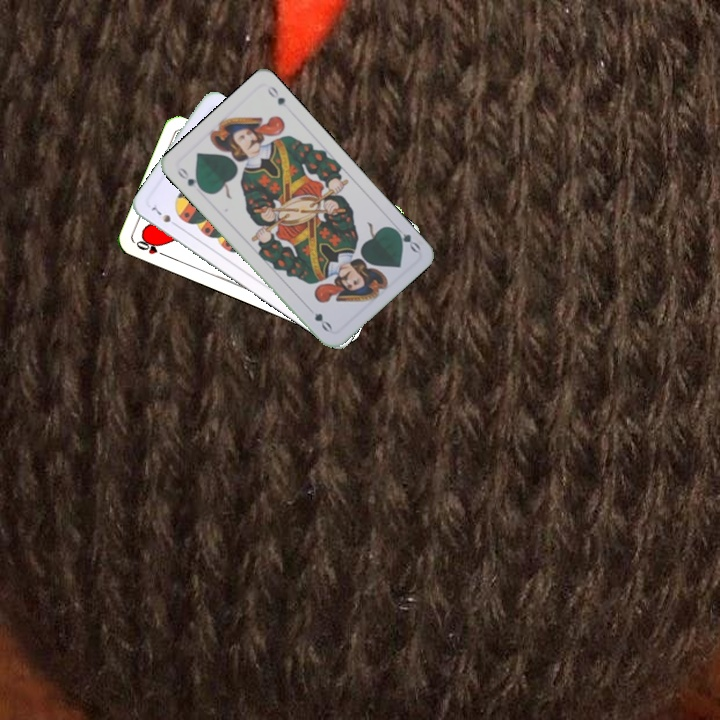GO: (388, 221, 423, 255), (173, 163, 207, 194)
HO: (132, 234, 170, 259)
S7: (148, 203, 181, 230)
